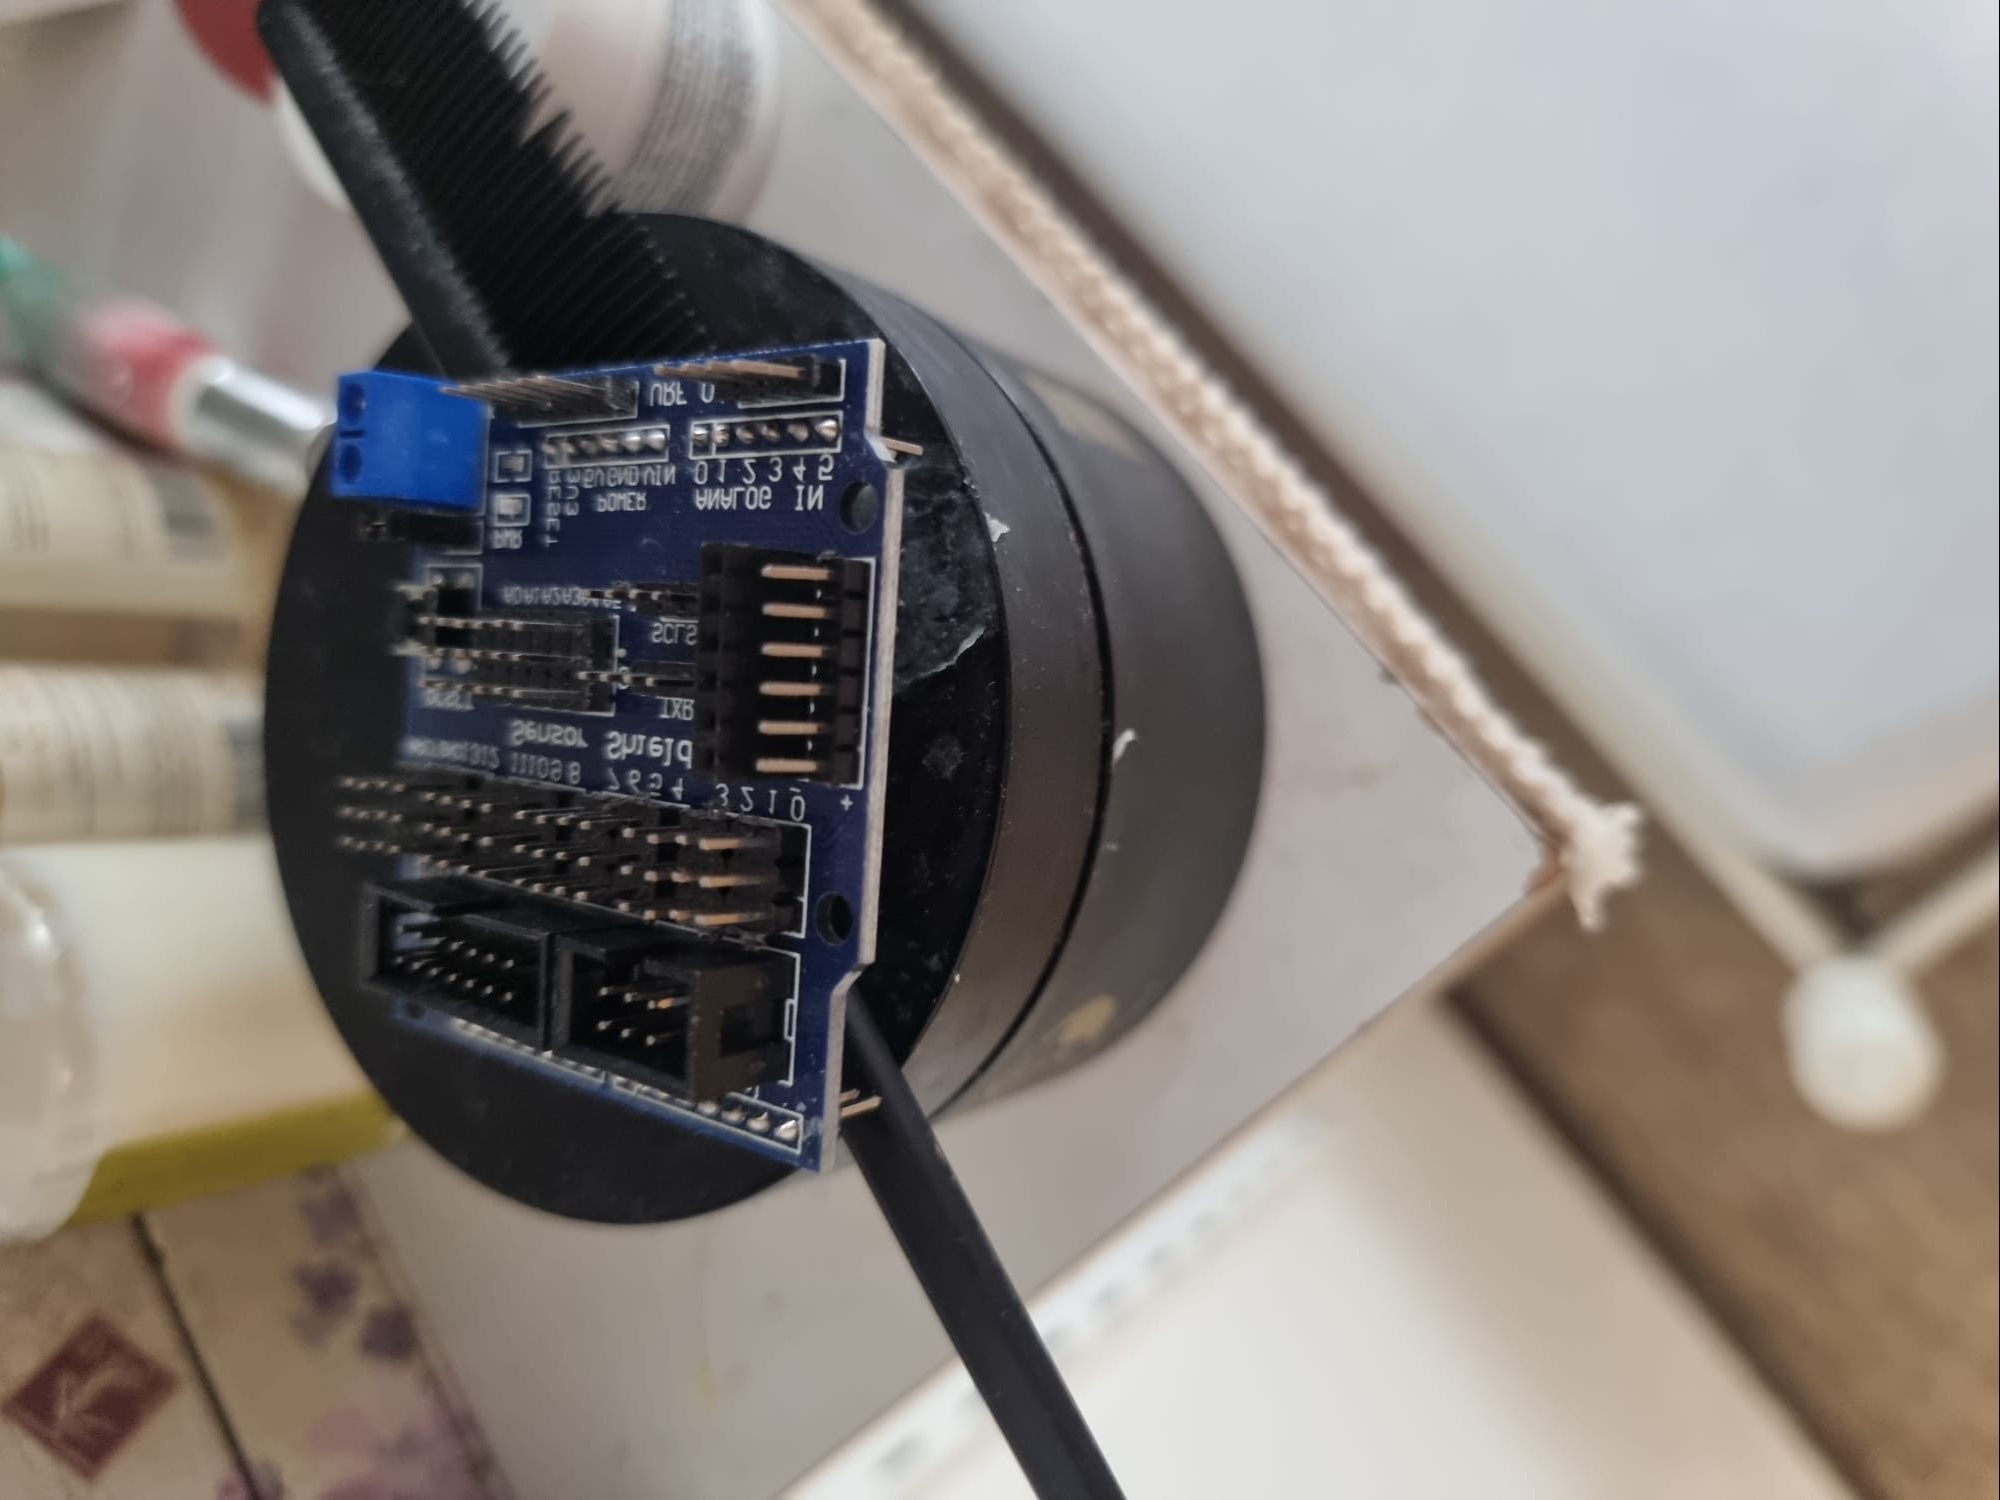5V EXPANSION: (324, 350, 857, 1164)
